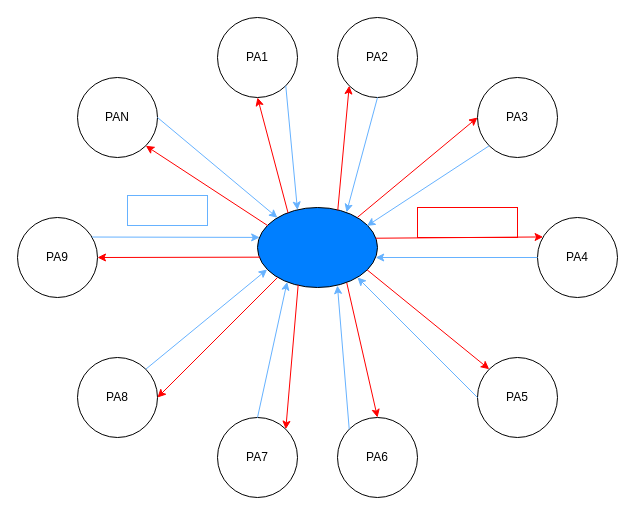
Image size: 635x515. Some labels were removed from this diagram. Here are the shapes that lost their labels. From the top down, the centre of each, then its label:
At point (167, 210): "*funciones".
At point (467, 222): "Mensaje del servidor".
At point (317, 247): "CC".
